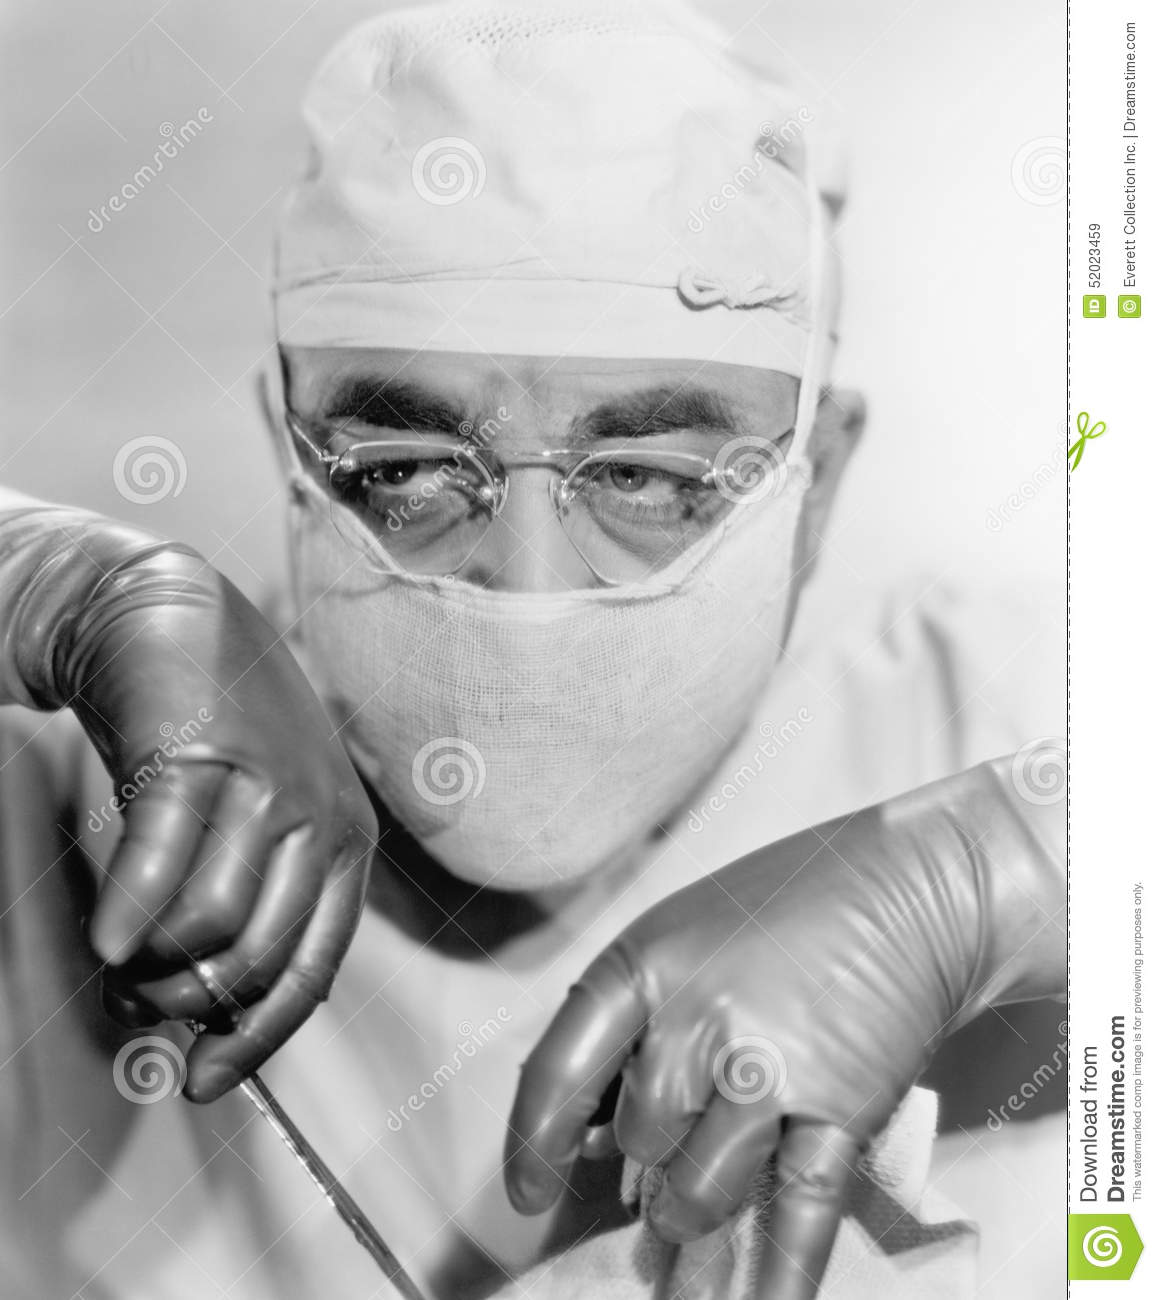mask: (284, 503, 812, 887)
